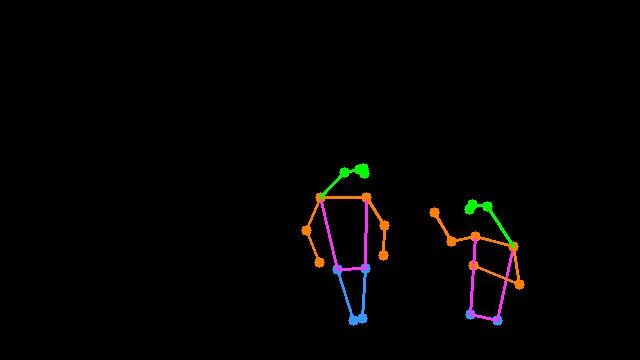normal: (279, 145, 531, 359)
